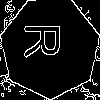R: (25, 22, 69, 59)
